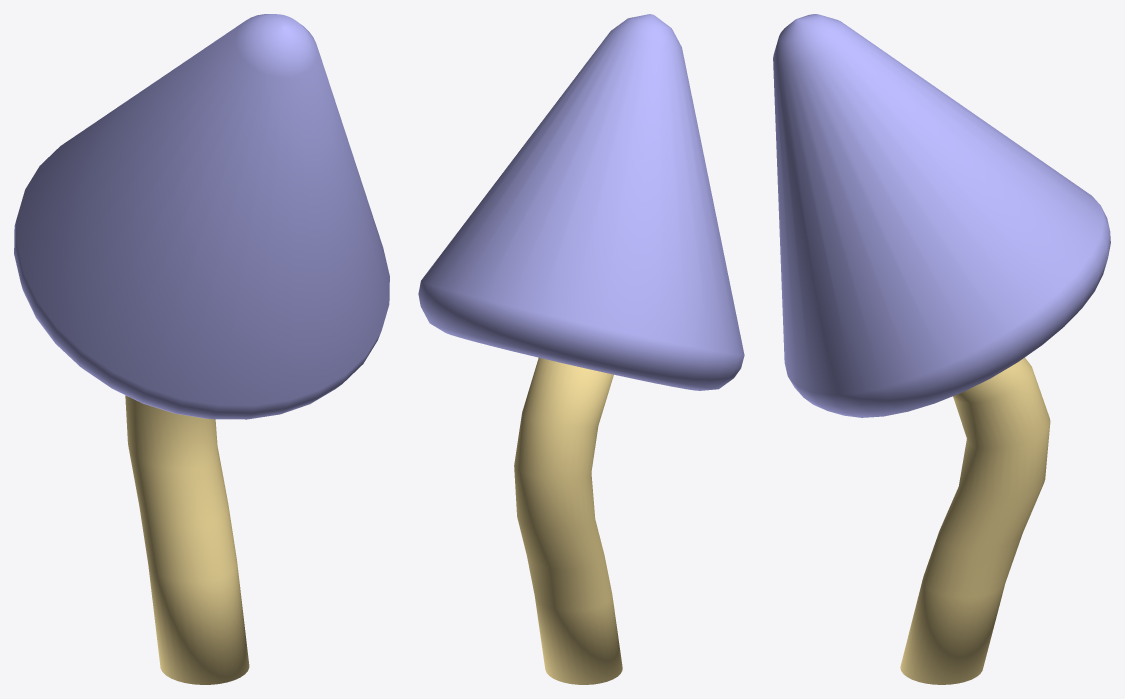
The model's file is SM_PlanteChampi.fbx.
The picture shows the model from 3 angles, left to right: view 1: azimuth 30°, elevation 25°; view 2: azimuth 150°, elevation 25°; view 3: azimuth 270°, elevation 25°; orthographic projection. The views are drawn at different scales.
Visible parts, largest first — view 1: SM_PlanteChampi; view 2: SM_PlanteChampi; view 3: SM_PlanteChampi.
Boxes of the visible parts, left/top/right/bottom form: SM_PlanteChampi: left=14, top=14, right=389, bottom=684; SM_PlanteChampi: left=418, top=14, right=744, bottom=684; SM_PlanteChampi: left=773, top=14, right=1110, bottom=684.
Bounding box in the file's own units: 106 × 112 × 225.
